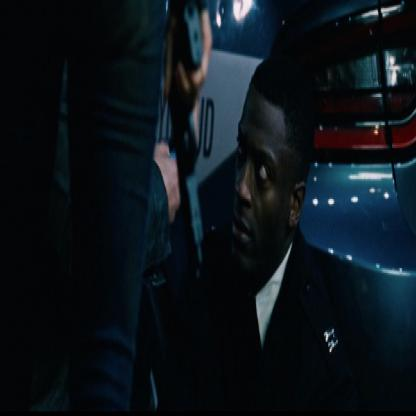Guns: (169, 0, 218, 285)
